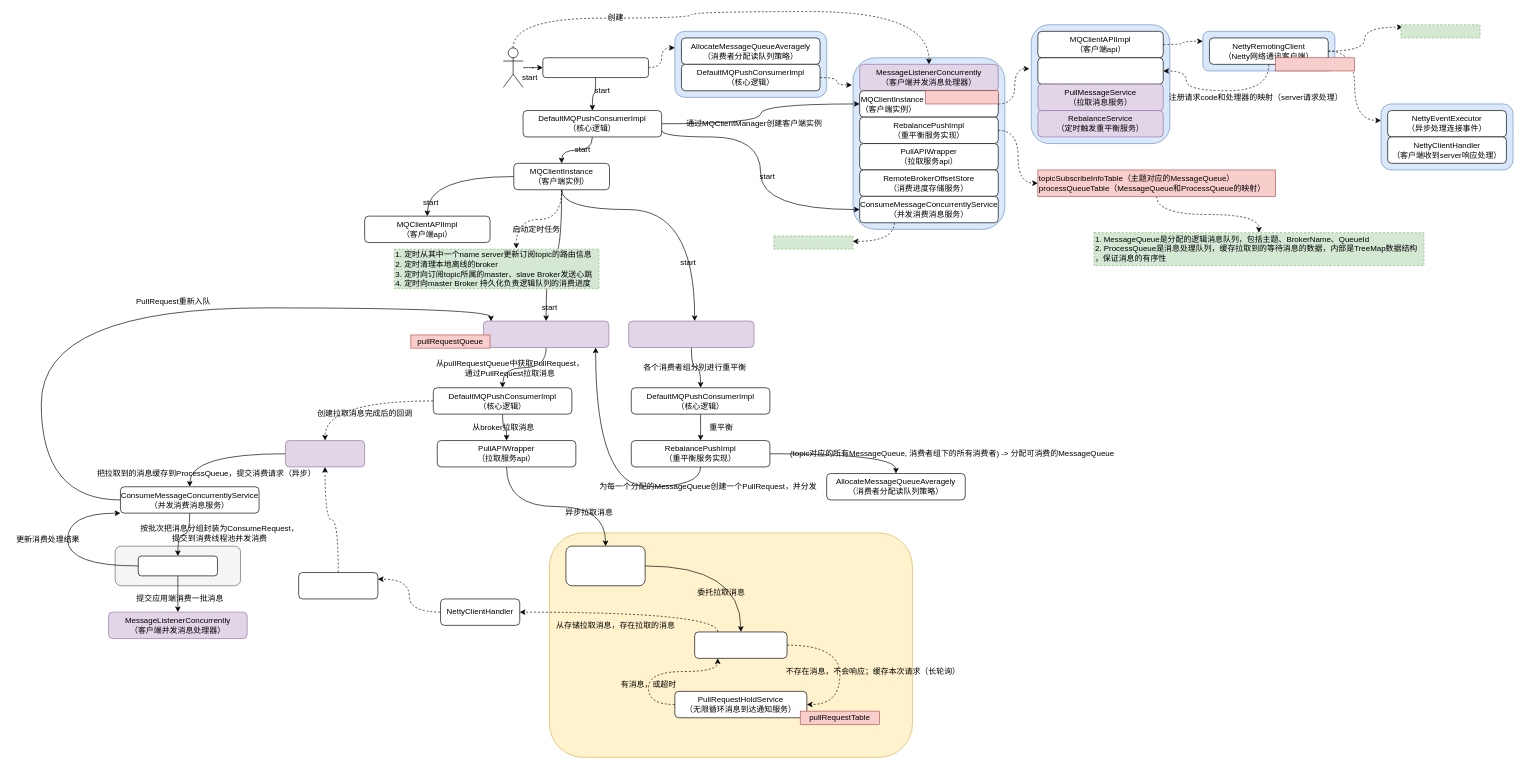
Image size: 1525x769. Some labels were removed from this diagram. The box of each missing label's shape, as (x1, y1, x2, y2) in pixels:
1. 定时清除过期消息: (773, 235, 853, 249)
1. 定时请求超时处理: (1400, 24, 1480, 38)
Broker: (565, 545, 645, 586)
ClientRemotingProcessor （客户端响应处理器）: (1037, 57, 1163, 84)
ConsumeRequest: (138, 555, 217, 576)
consumerTable: (925, 90, 998, 104)
DefaultMQPushConsumer （ClientConfig配置）: (542, 57, 648, 78)
InvokeCallback: (298, 572, 378, 599)
processorTable: (1275, 57, 1355, 71)
PullCallback （消息处理回调）: (285, 440, 365, 467)
PullMessageProcessor: (694, 631, 787, 658)
PullMessageService （无限循环拉取消息服务）: (483, 320, 609, 347)
RebalanceService （定时触发重平衡服务，按topic）: (628, 320, 754, 347)
